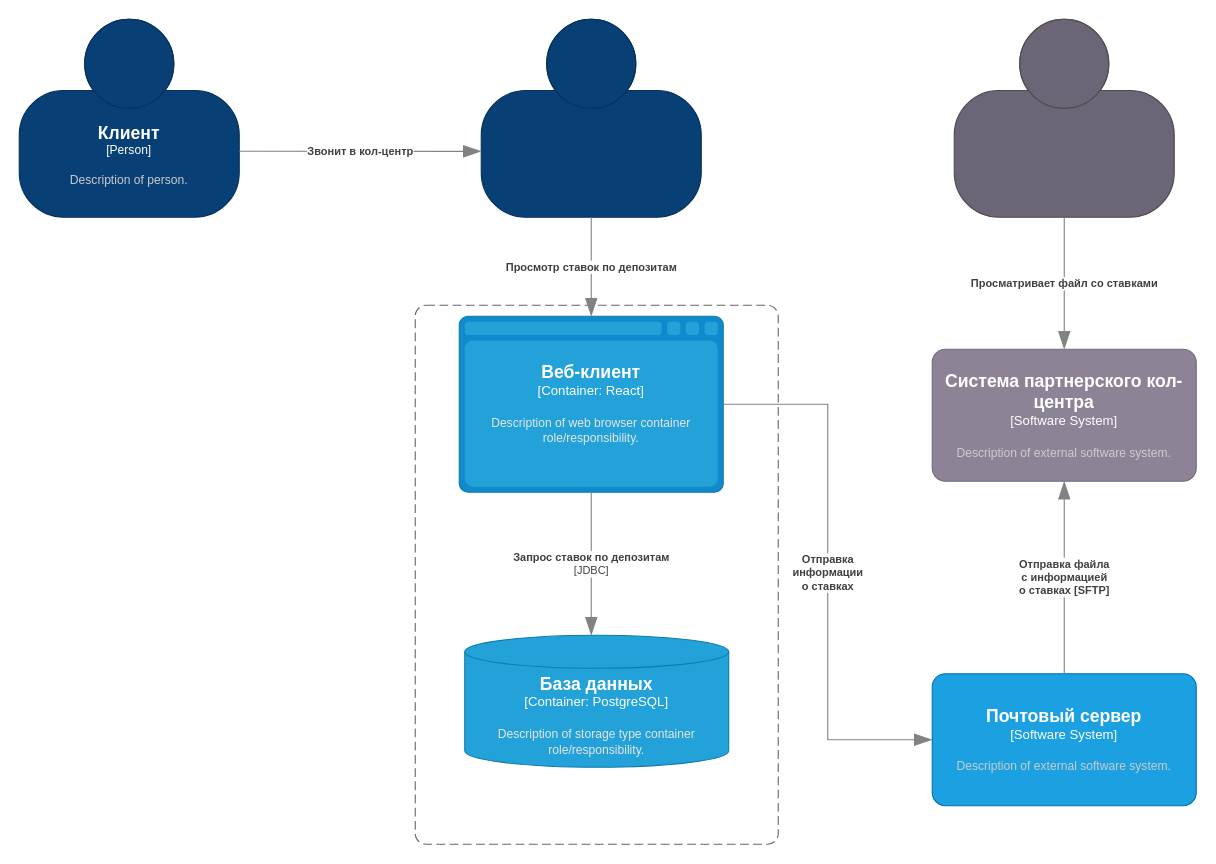
Image size: 1216x864. Some labels were removed from this diagram. Each missing label, with the box of its shape:
Менеджер кол-центра [Person] Description of person.: (480, 18, 701, 217)
Менеджер партнерского кол-центра [Person] Description of external person.: (953, 18, 1174, 217)
Система кол-центра [Software System]: (414, 304, 778, 844)
